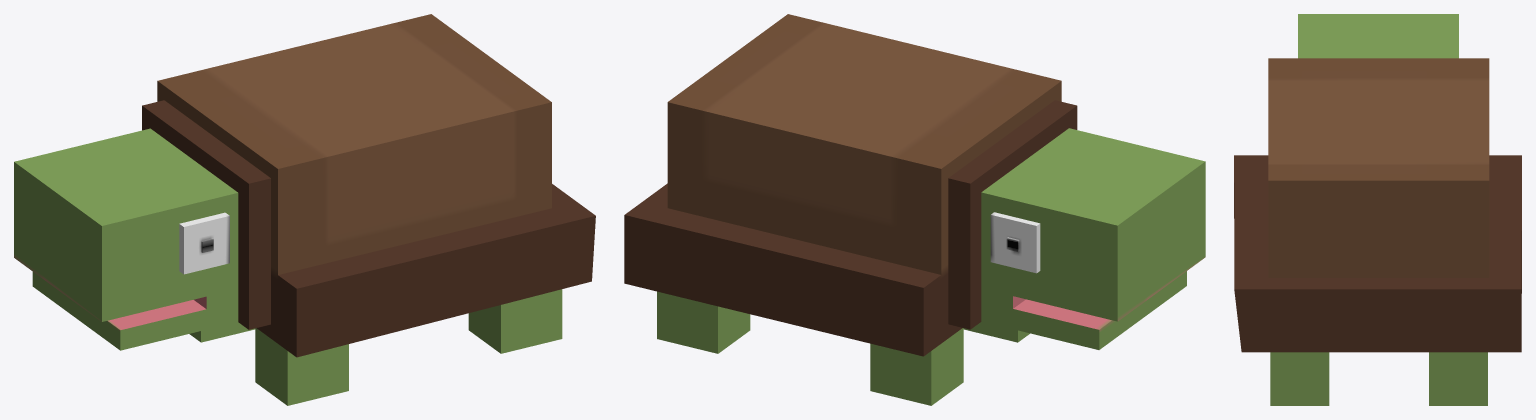
The model's file is Tortoise.FBX.
The picture shows the model from 3 angles, left to right: view 1: azimuth 30°, elevation 25°; view 2: azimuth 150°, elevation 25°; view 3: azimuth 270°, elevation 25°; orthographic projection. The views are drawn at different scales.
Visible parts, largest first — view 1: Tortoise_Body, Tortoise_Head, Tortoise_Legs_01, Tortoise_Legs_00, Tortoise_Legs_03; view 2: Tortoise_Body, Tortoise_Head, Tortoise_Legs_03, Tortoise_Legs_02, Tortoise_Legs_01; view 3: Tortoise_Body, Tortoise_Head, Tortoise_Legs_00, Tortoise_Legs_02.
Part boxes in pixels (left/top/right/bottom): Tortoise_Body: left=142, top=14, right=595, bottom=357; Tortoise_Head: left=14, top=128, right=238, bottom=350; Tortoise_Legs_01: left=255, top=328, right=348, bottom=405; Tortoise_Legs_00: left=468, top=289, right=562, bottom=353; Tortoise_Legs_03: left=189, top=322, right=255, bottom=342; Tortoise_Body: left=624, top=14, right=1077, bottom=356; Tortoise_Head: left=981, top=128, right=1205, bottom=349; Tortoise_Legs_03: left=870, top=328, right=963, bottom=405; Tortoise_Legs_02: left=657, top=291, right=750, bottom=353; Tortoise_Legs_01: left=963, top=321, right=1029, bottom=342; Tortoise_Body: left=1234, top=58, right=1521, bottom=352; Tortoise_Head: left=1298, top=14, right=1458, bottom=58; Tortoise_Legs_00: left=1270, top=352, right=1329, bottom=405; Tortoise_Legs_02: left=1429, top=352, right=1487, bottom=405.
Size of the model in its own units: 30.49 by 15.24 by 18.05.
